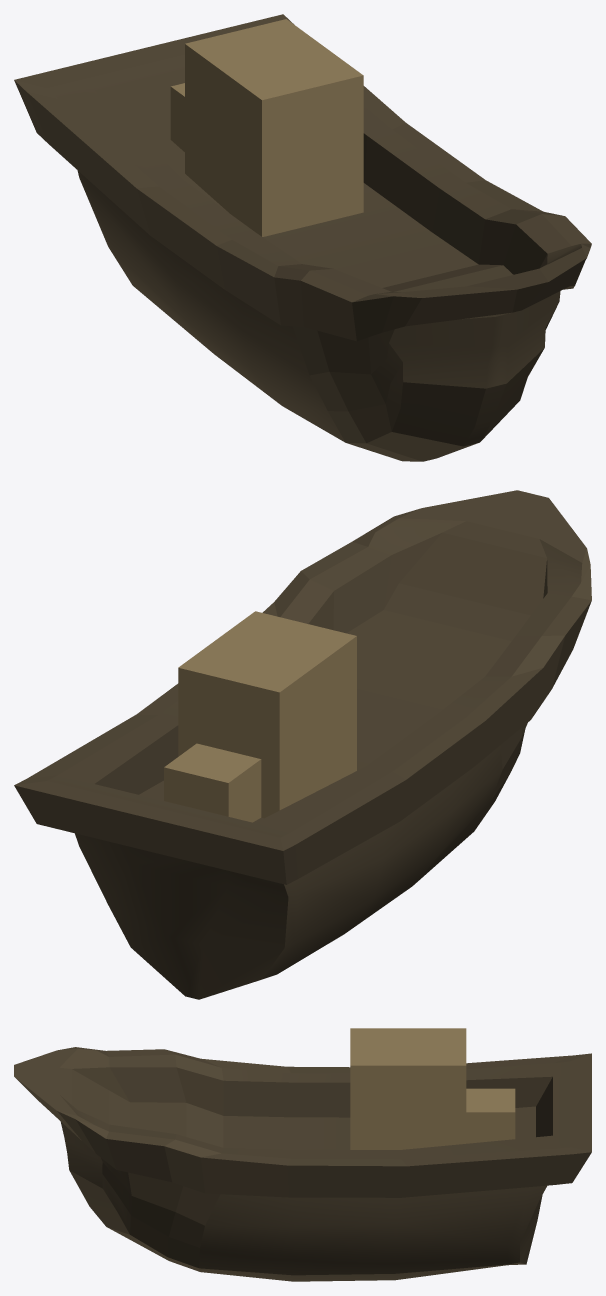
The model's file is Boat_placeholder01.fbx.
3 views of the same model, one above another, from view 1: azimuth 30°, elevation 25°; view 2: azimuth 150°, elevation 25°; view 3: azimuth 270°, elevation 25° (orthographic). The views are drawn at different scales.
Visible parts, largest first — view 1: pCube4; view 2: pCube4; view 3: pCube4.
Part boxes in pixels (box(x1,y1,x2,y2)): pCube4: box(14, 14, 591, 461); pCube4: box(14, 490, 591, 999); pCube4: box(14, 1028, 591, 1281).
Bounding box in the file's own units: 2.75 × 3.03 × 6.8.
